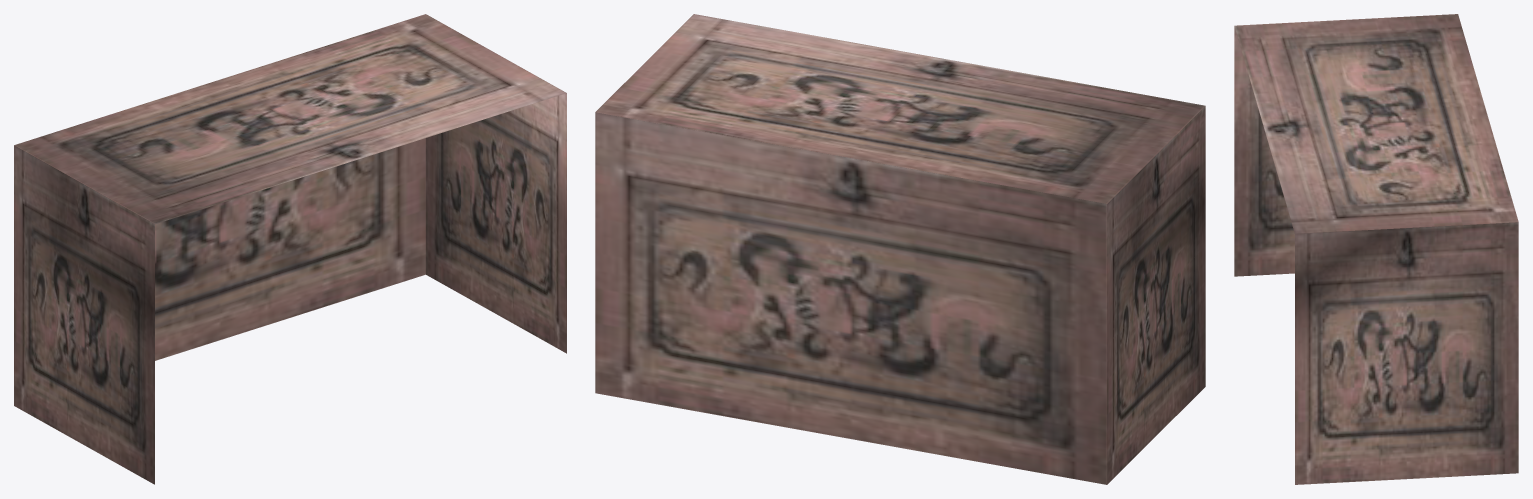
3 views of the same model, side by side, from view 1: azimuth 30°, elevation 25°; view 2: azimuth 150°, elevation 25°; view 3: azimuth 270°, elevation 25° (orthographic). The views are drawn at different scales.
Parts seen in each view (by area): view 1: Box114; view 2: Box114; view 3: Box114.
Boxes of the visible parts, left/top/right/bottom form: Box114: left=14, top=14, right=566, bottom=484; Box114: left=595, top=14, right=1205, bottom=484; Box114: left=1234, top=14, right=1518, bottom=484.
Size of the model in its own units: 21.02 by 11.18 by 11.49.
